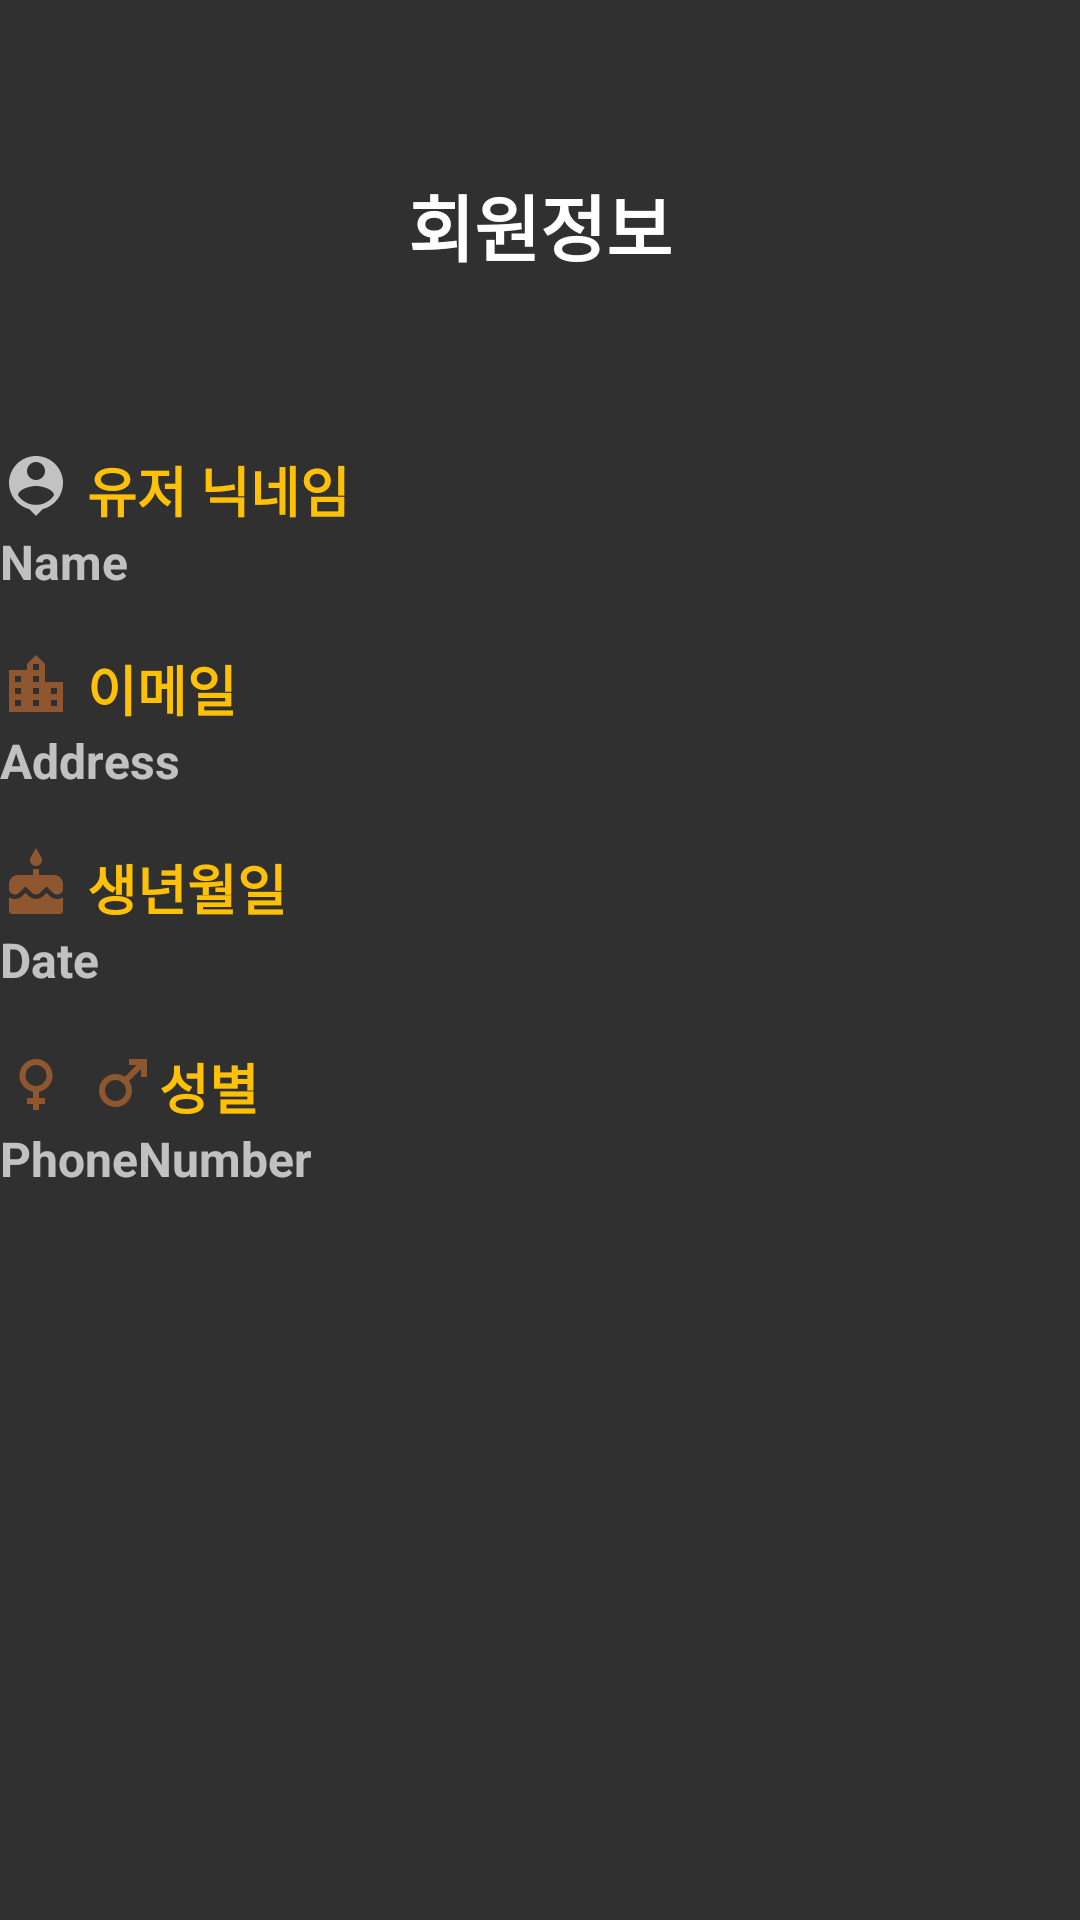

Where icons sit on this 1080*1920 app screen, as (x1, y1, x2, y2):
cake: (9, 849, 63, 914)
female: (19, 1059, 53, 1110)
location city: (9, 655, 63, 712)
male: (99, 1059, 147, 1107)
person pin: (9, 456, 63, 516)
